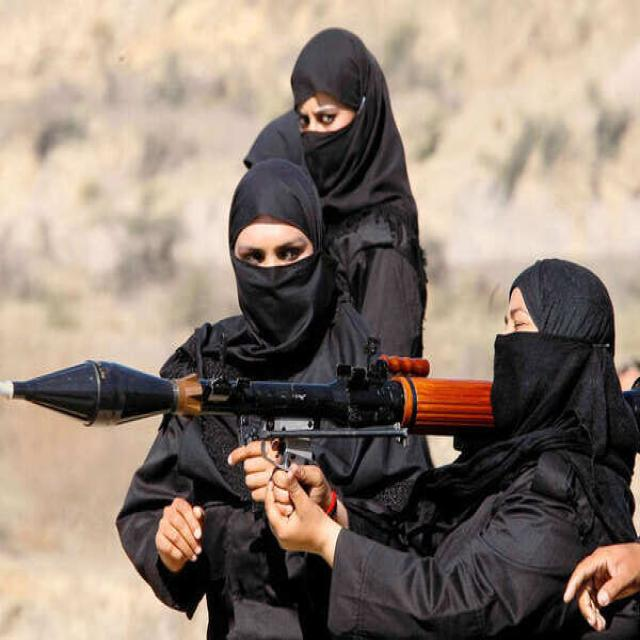Forest: (0, 0, 640, 640)
Militant: (122, 153, 417, 640), (203, 9, 448, 538), (355, 227, 640, 638)
